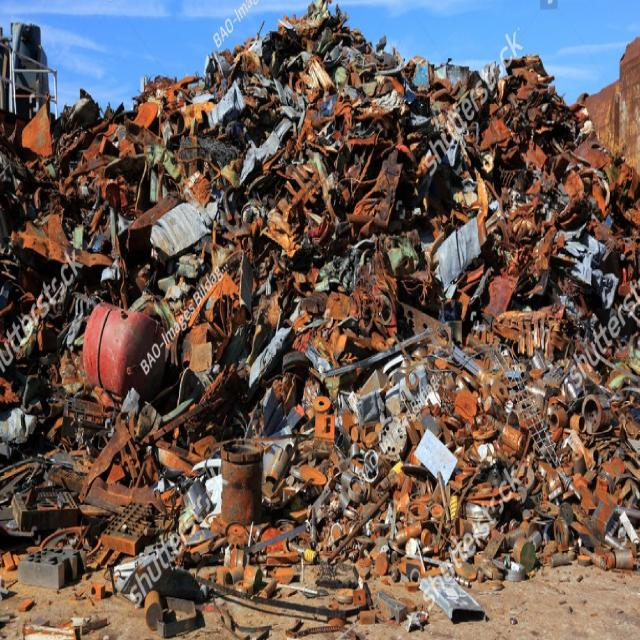Cylinder: (82, 304, 164, 401)
